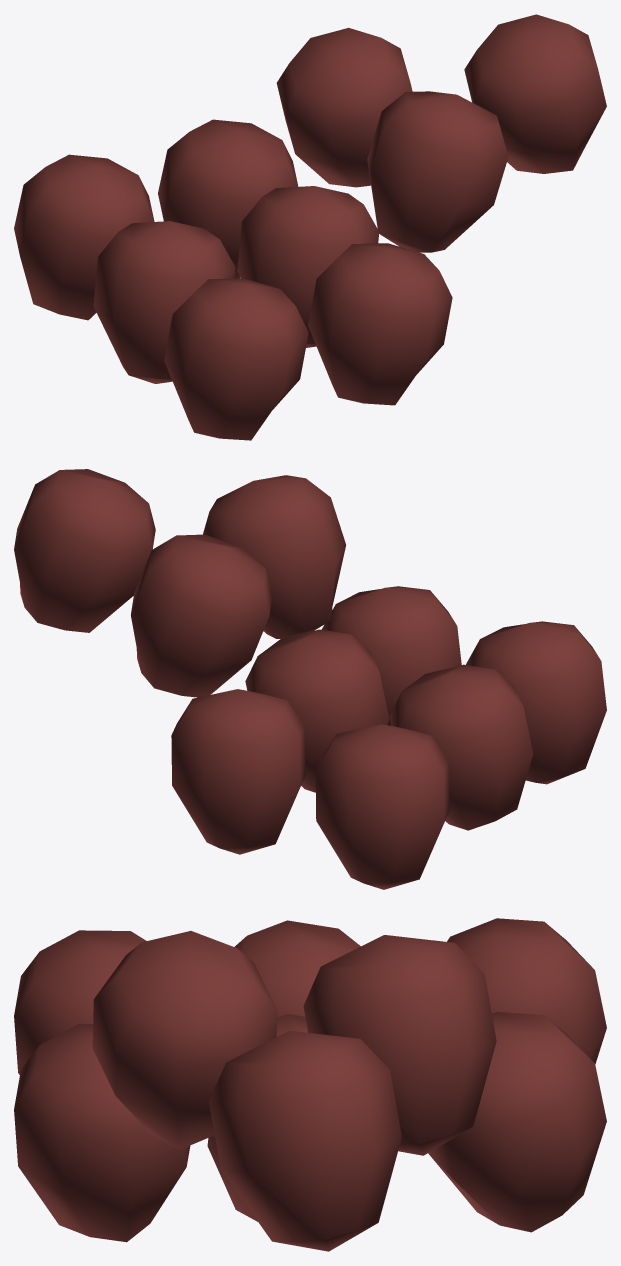
File: Muat Sawit_4_Low Mesh.gltf
3 renders of one model, top to bottom at view 1: azimuth 30°, elevation 25°; view 2: azimuth 150°, elevation 25°; view 3: azimuth 270°, elevation 25°, orthographic. The views are drawn at different scales.
Parts seen in each view (by area): view 1: Muat Sawit_4_Low Mesh; view 2: Muat Sawit_4_Low Mesh; view 3: Muat Sawit_4_Low Mesh.
Part boxes in pixels (bbox=[...]): Muat Sawit_4_Low Mesh: bbox=[14, 14, 606, 440]; Muat Sawit_4_Low Mesh: bbox=[14, 469, 606, 889]; Muat Sawit_4_Low Mesh: bbox=[14, 918, 606, 1251].
Size of the model in its own units: 1.71 by 0.854 by 1.31.
